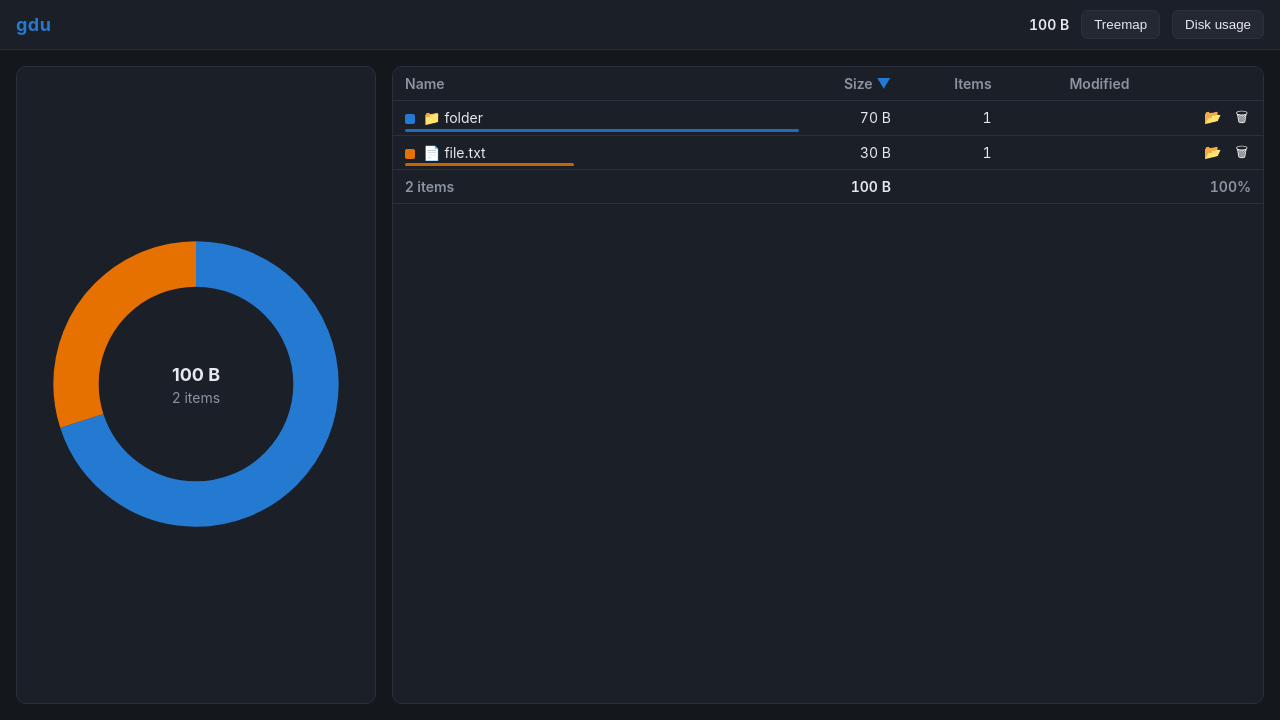
Test case: table actions › explains that actions are unavailable without an action token
Click the button named "Reveal file.txt": (1213, 152) 1197,140 -> 1228,165
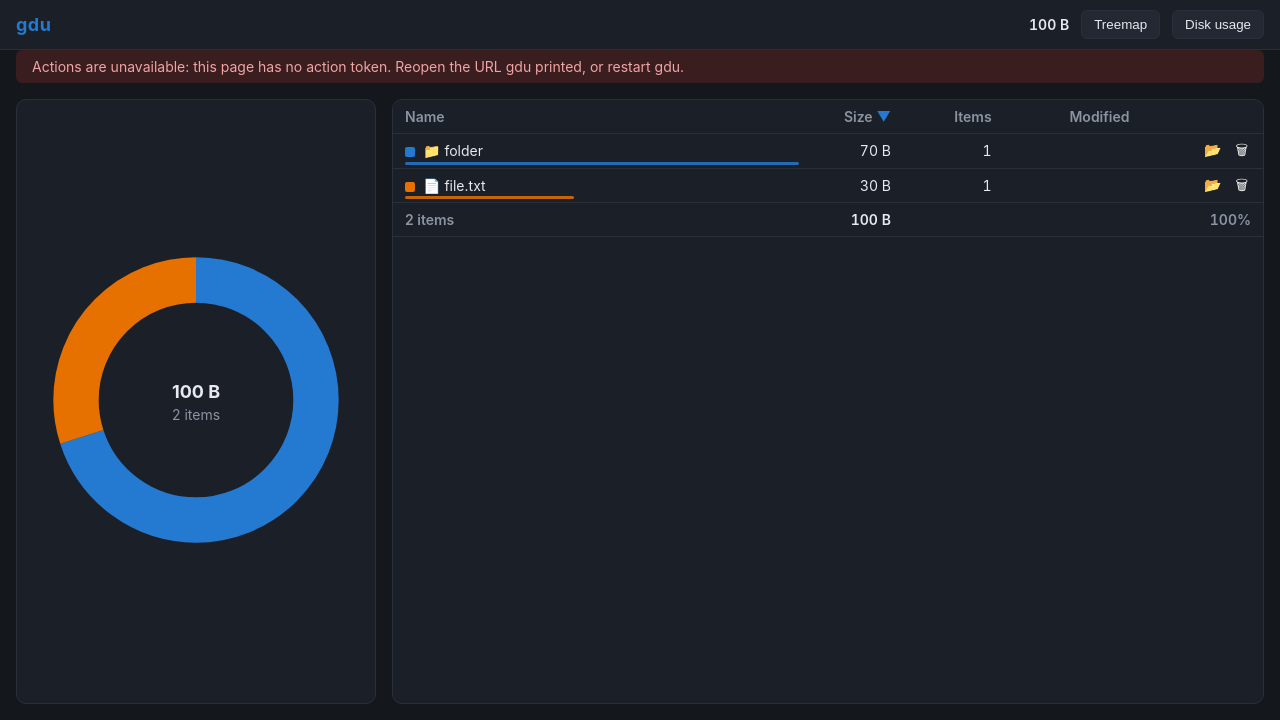
Expected: the text "no action token" is shown, 32,58 -> 684,75
